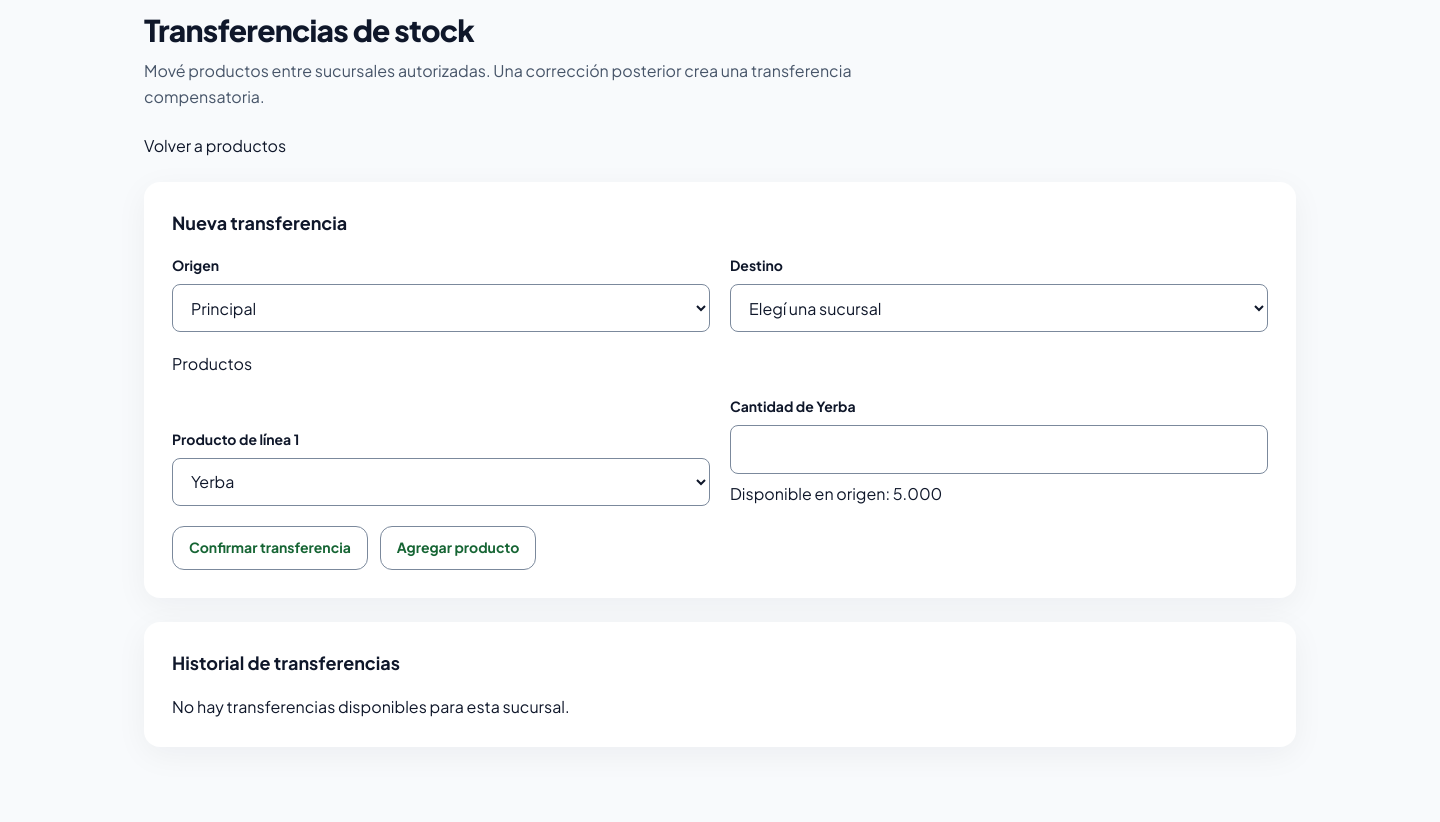
Test: T114C leaves a multi-line stock rejection unassigned when the server does not identify a line
Select "Depósito" in the dropdown labelled "Destino" at coordinates (999, 308), box [730,284,1268,332]
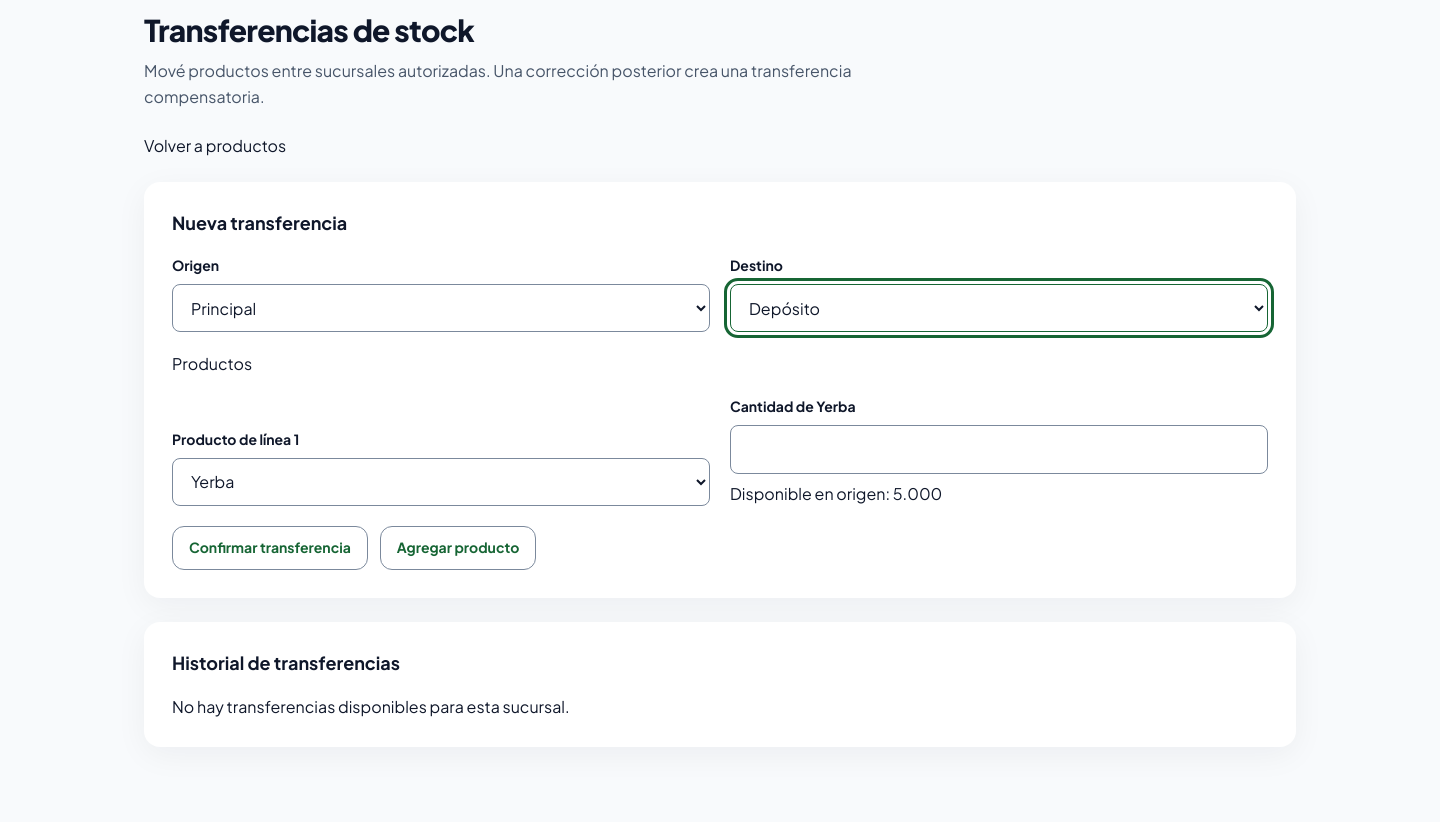
Type "1" into the field labelled "Cantidad de Yerba" at coordinates (999, 450), box [730,426,1268,474]
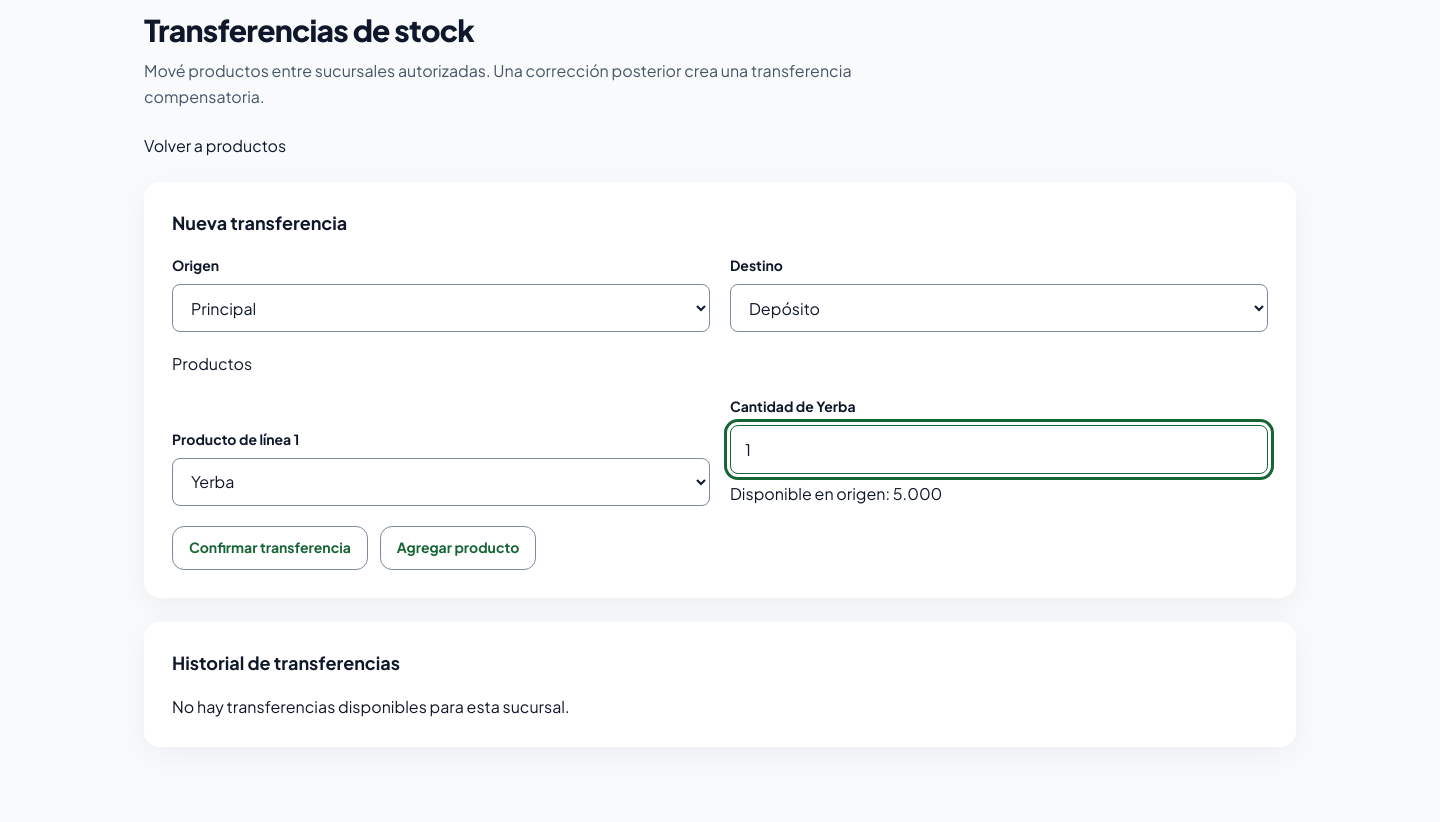
Click the button "Agregar producto" at coordinates (458, 548), box [380,526,536,570]
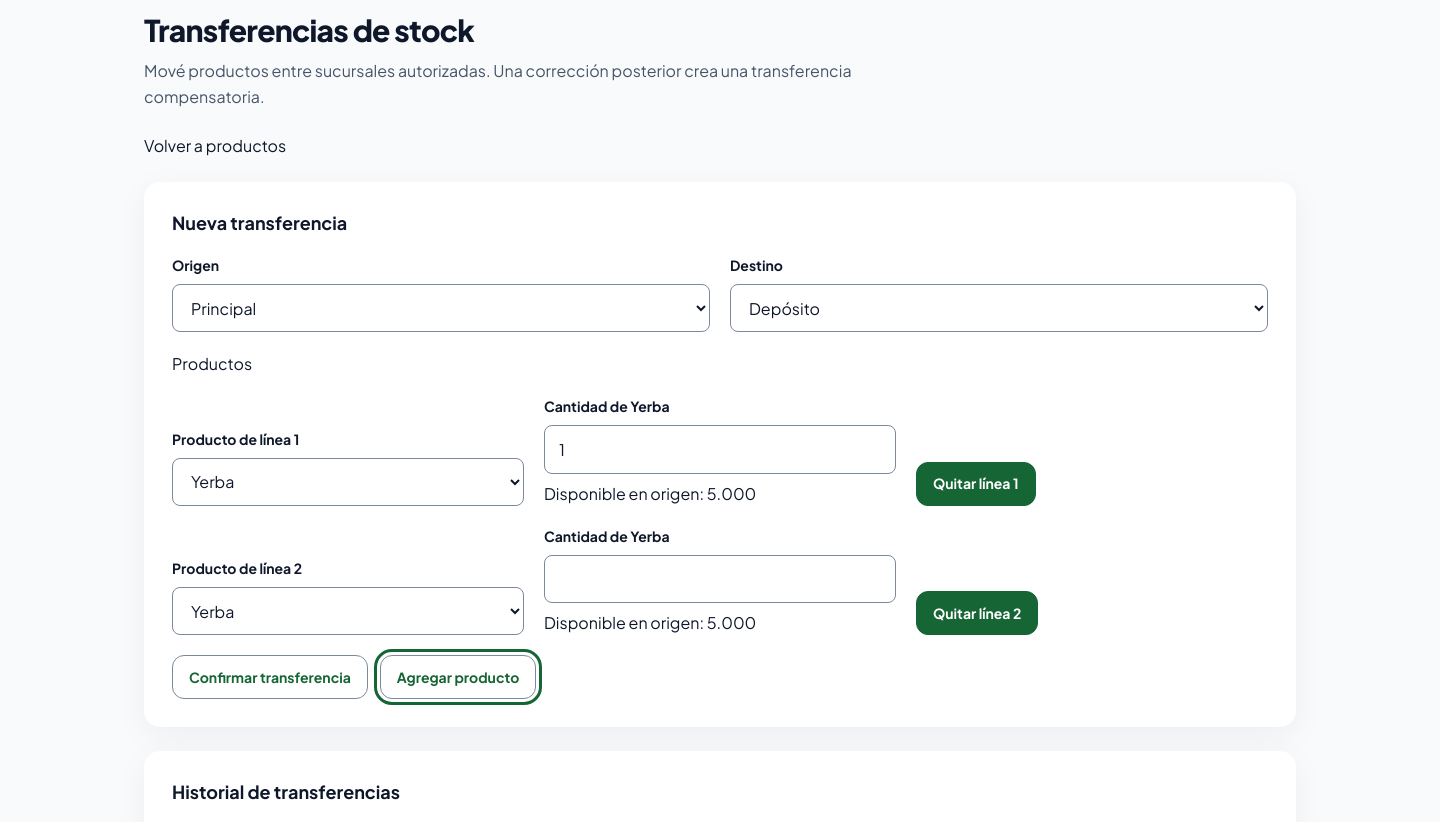
Select "Aceite" in the dropdown labelled "Producto de línea 2" at coordinates (348, 611), box [172,587,524,635]
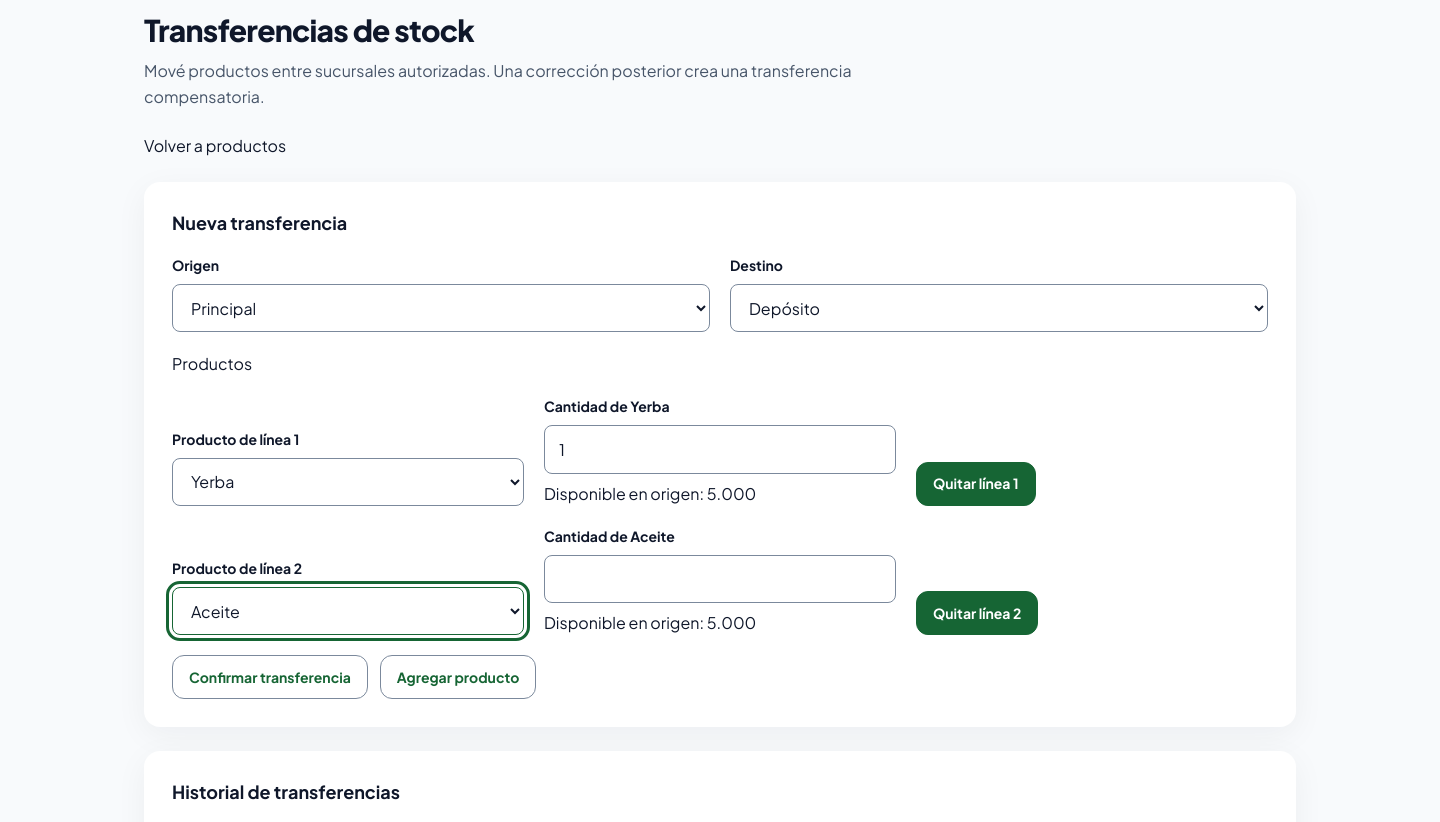
Type "1" into the field labelled "Cantidad de Aceite" at coordinates (720, 579), box [544,555,896,603]
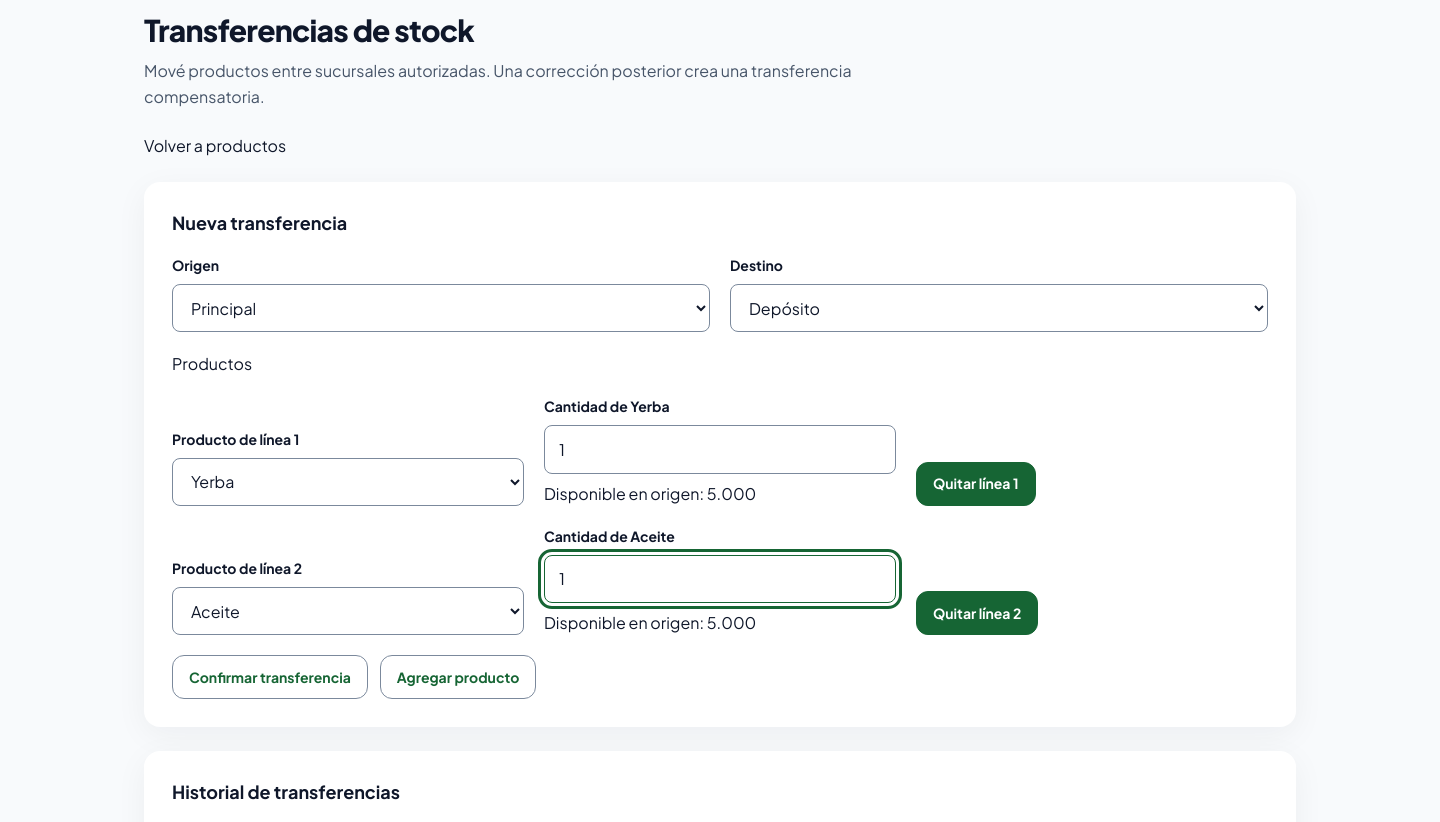
Click the button "Confirmar transferencia" at coordinates (270, 677), box [172,655,368,699]
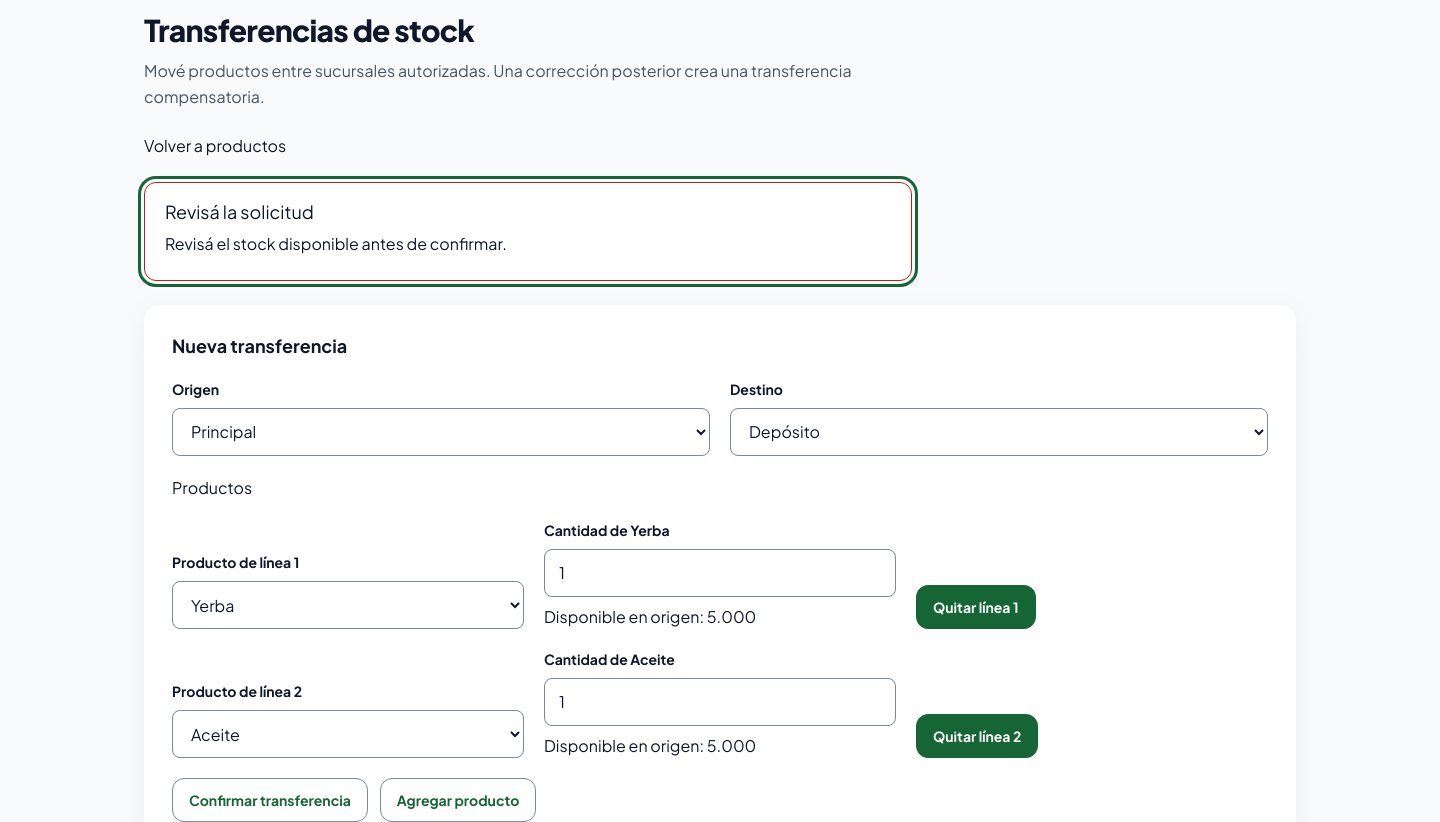
Expected: the message shows "stock disponible", [165,234,507,254]
